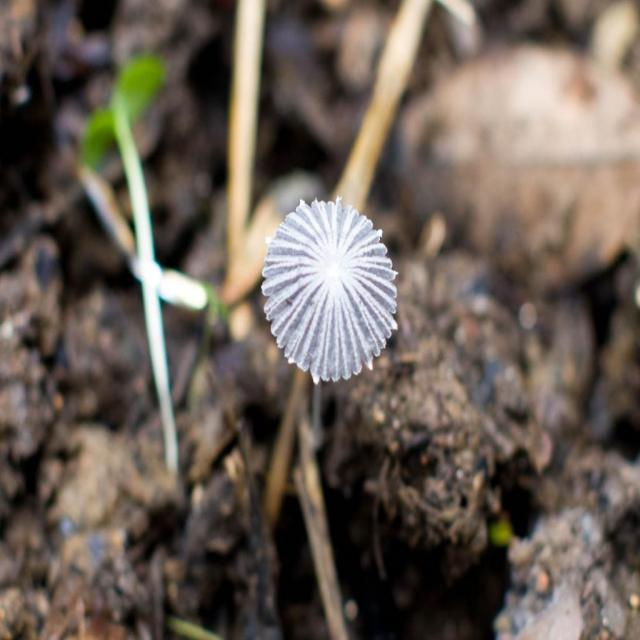Mushroom: (264, 194, 398, 524), (331, 0, 474, 211)
